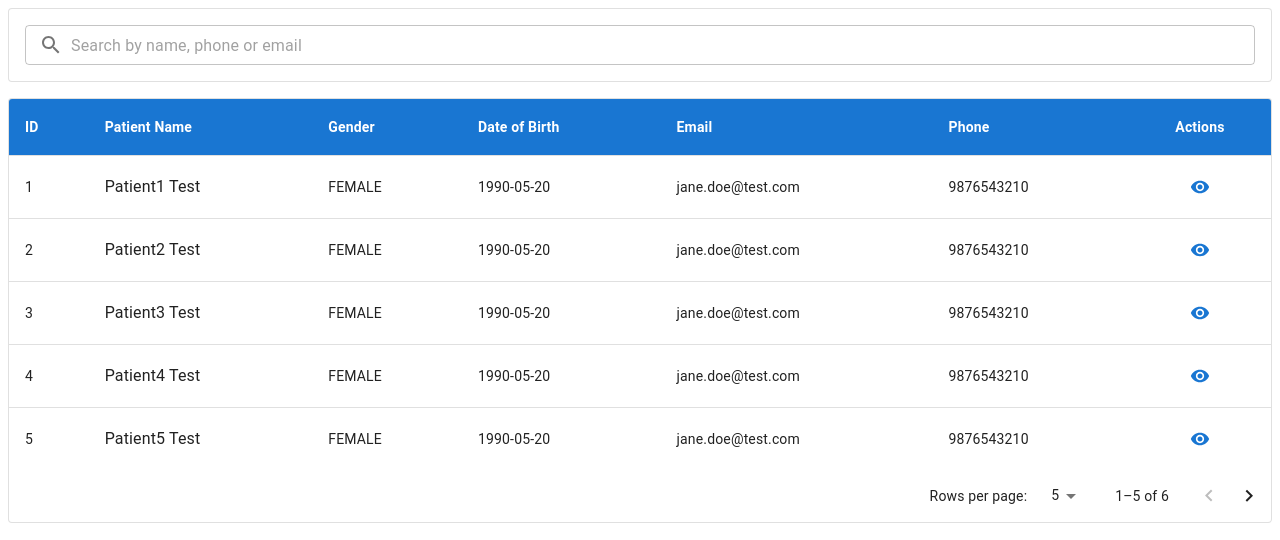
PatientTable › should paginate patients
expect the text "Patient1 Test" is shown: met, box [105,177,200,196]
expect the text "Patient6 Test" is not shown: met
Click the button named "Go to next page" at (1249, 496), box [1229,476,1269,516]
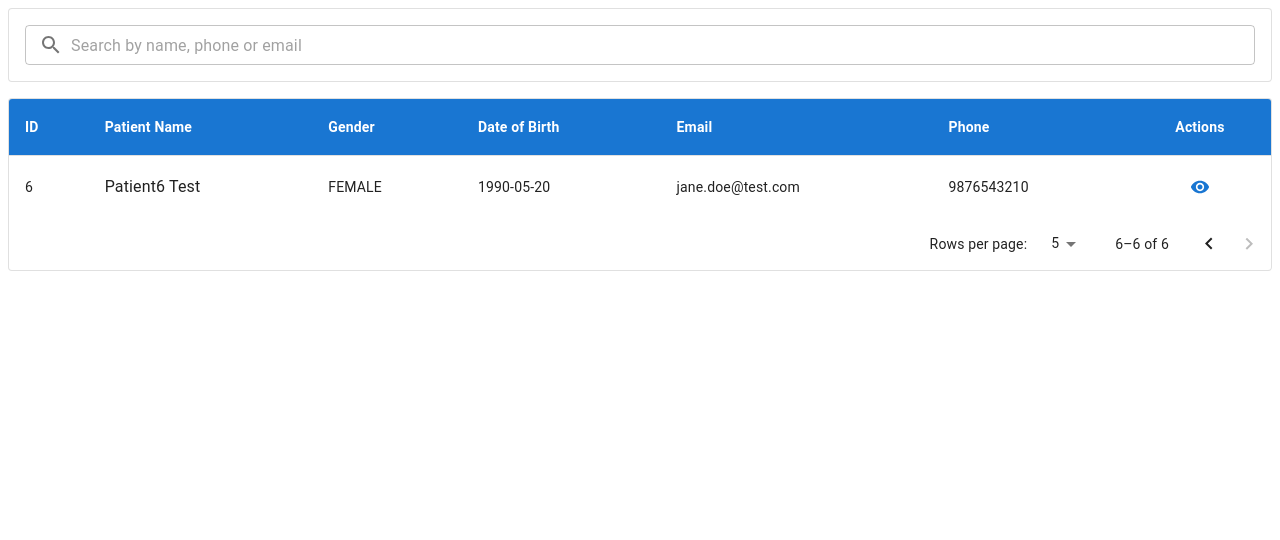
expect the text "Patient6 Test" is shown: met, box [105,177,200,196]
expect the text "6–6 of 6" is shown: met, box [1115,234,1169,254]
